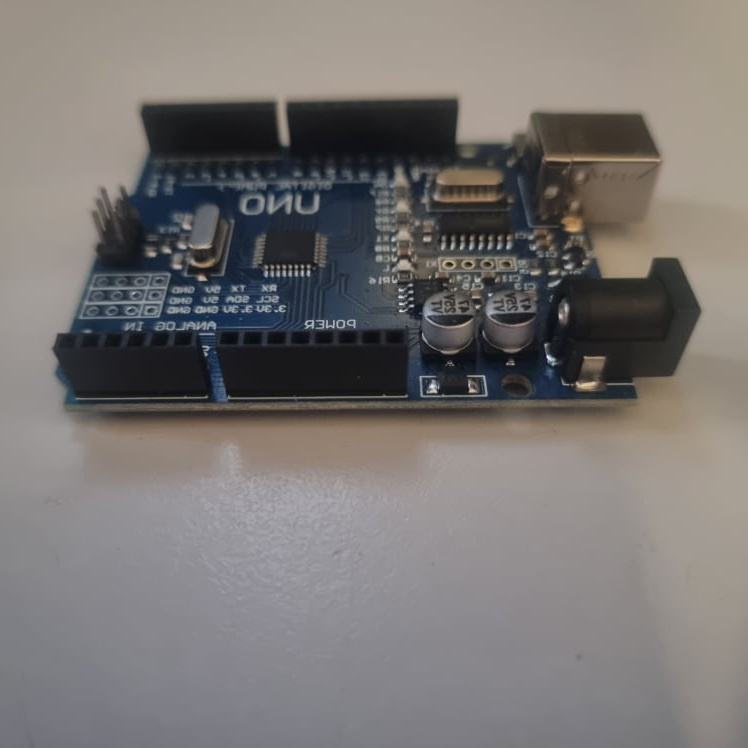UNO R3: (51, 92, 702, 416)
